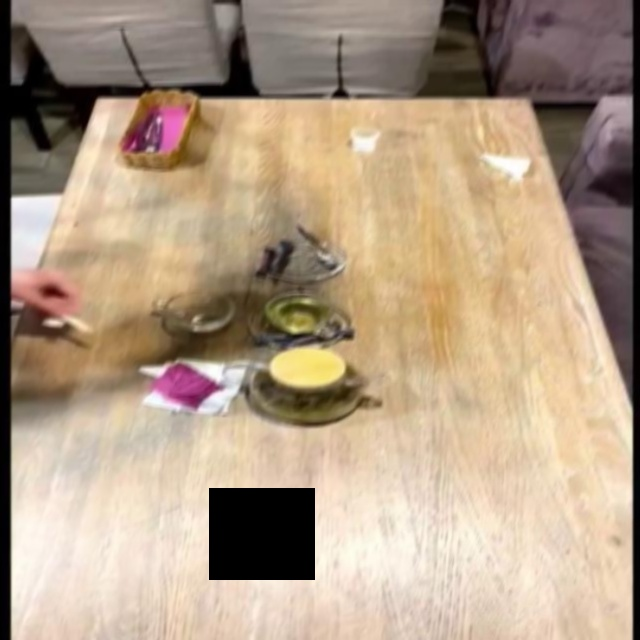tea: (225, 341, 383, 440)
